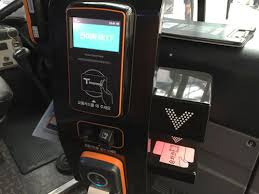terminal: (60, 1, 135, 122)
